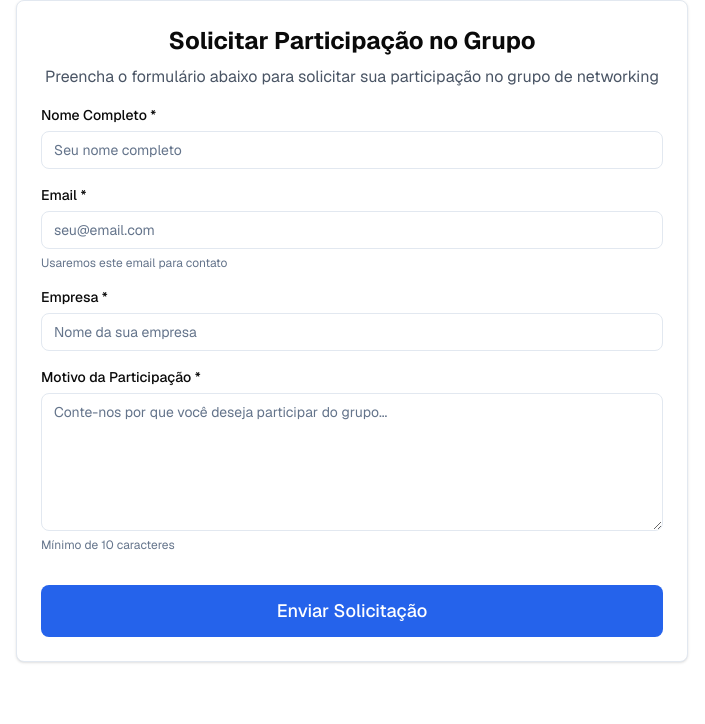
it: IntentionForm › deve validar campos obrigatórios
This screenshot has width=705, height=724.
Step 1. Click the button "Enviar Solicitação" → x=352, y=611, box x1=41 y1=585 x2=663 y2=637
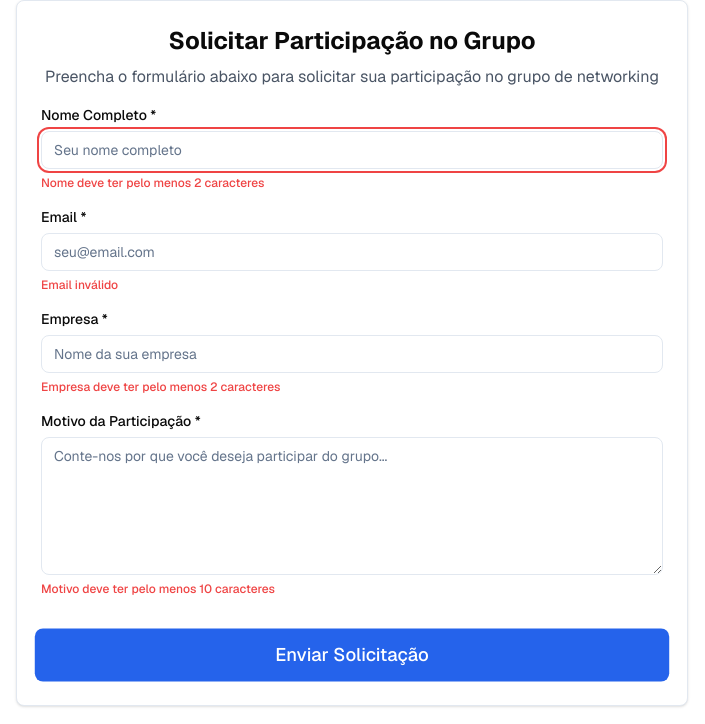
Expected: the text "Nome deve ter pelo menos 2 caracteres" is shown, x1=41 y1=175 x2=264 y2=191
